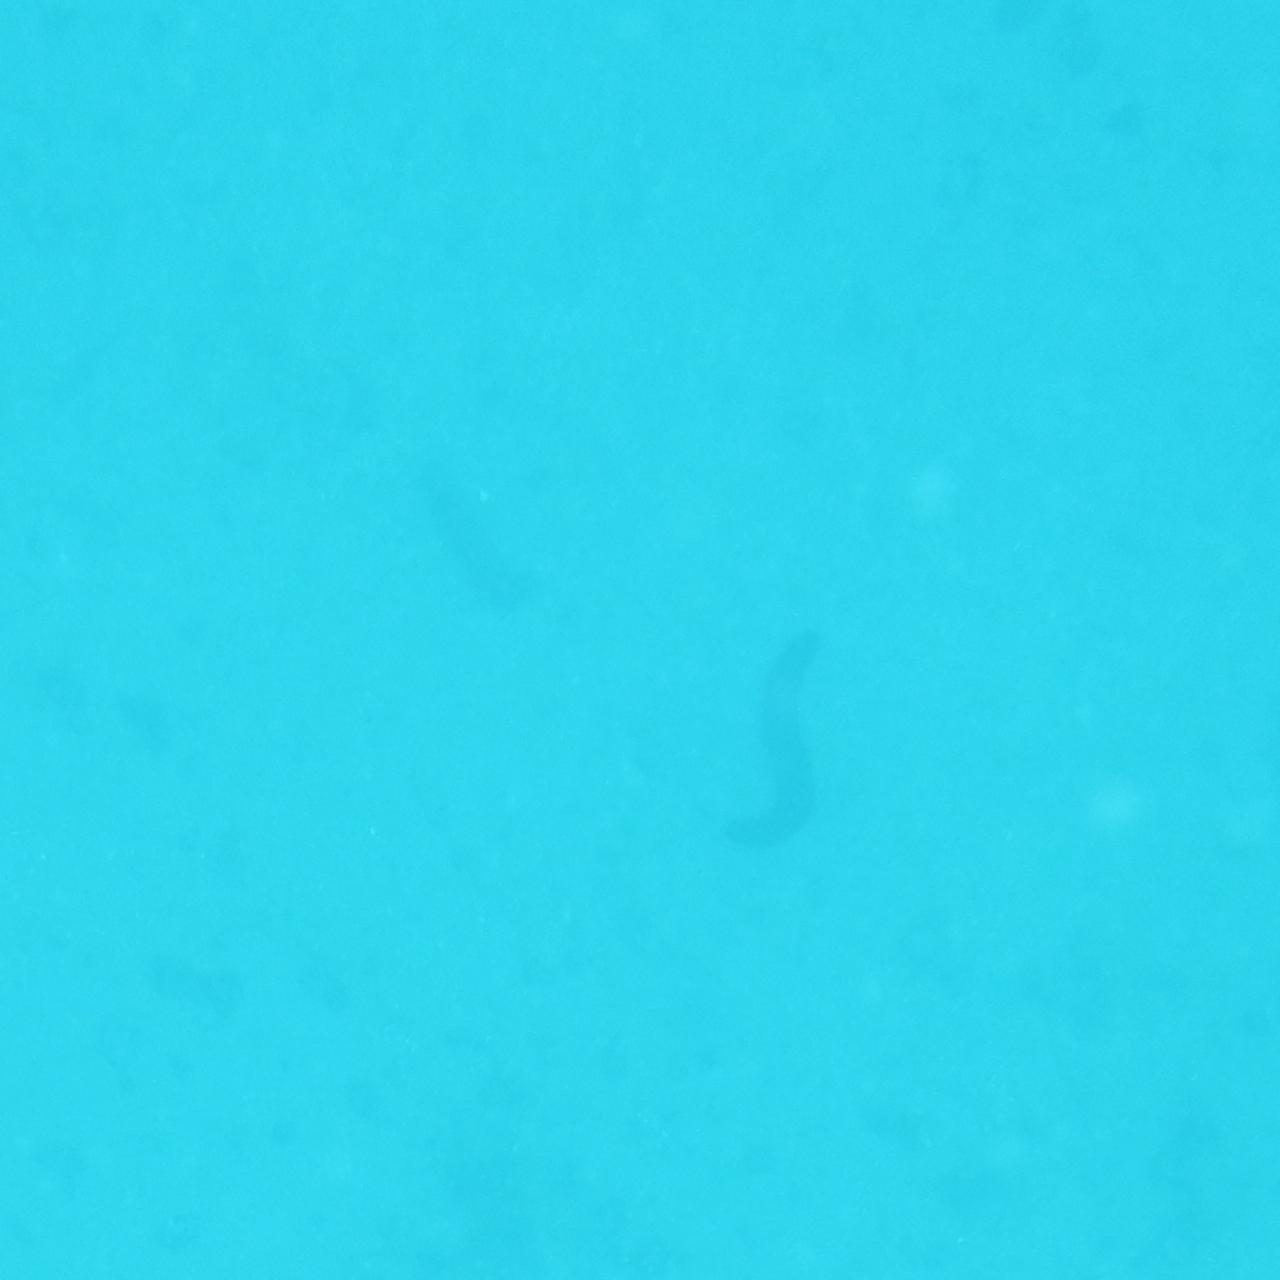Holothuria tubulosa: (728, 622, 836, 865), (416, 458, 581, 615)
